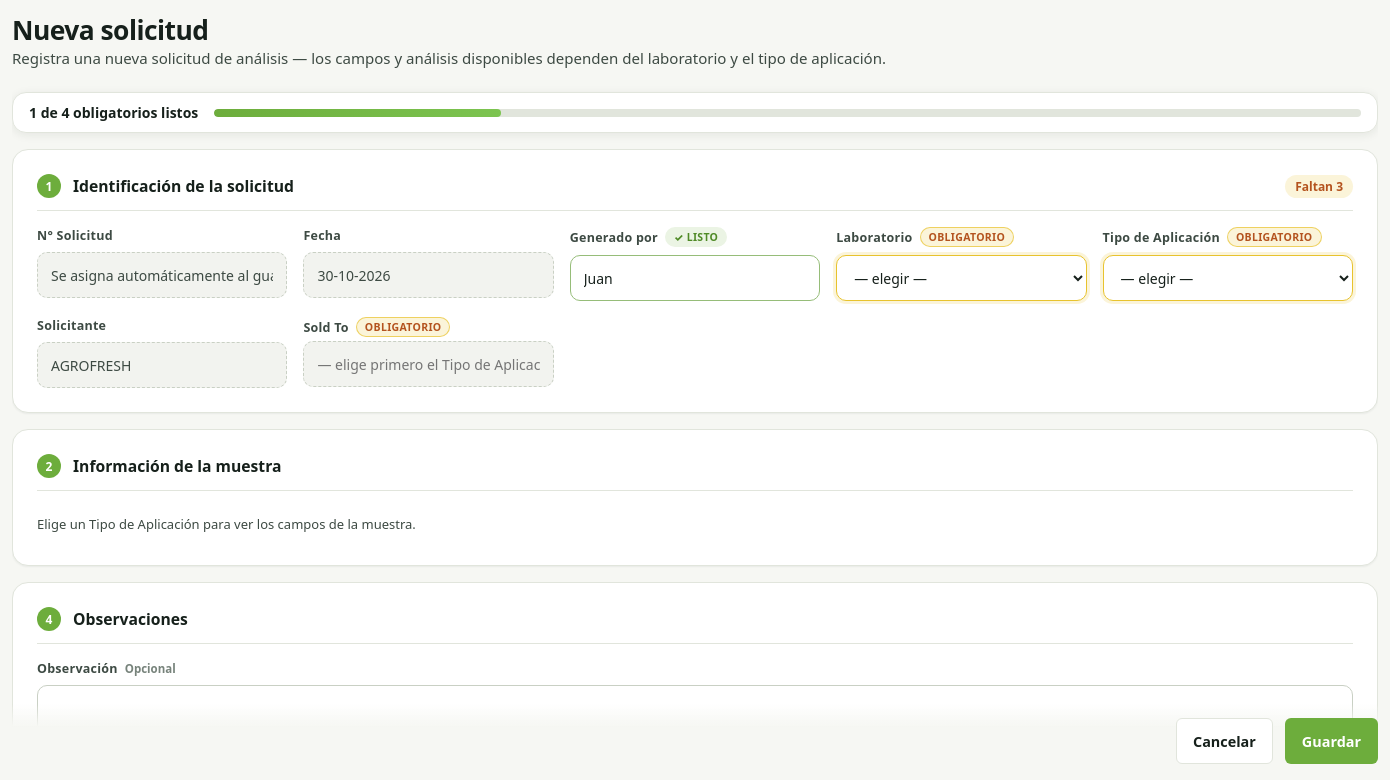
NuevaSolicitudView — RYD de AgroFresh › pide código y N° de ensayo y permite varias posiciones solo en RYD + AgroFresh
Select "AgroFresh" in the dropdown labelled "Laboratorio": (961, 278) [836,255,1087,301]
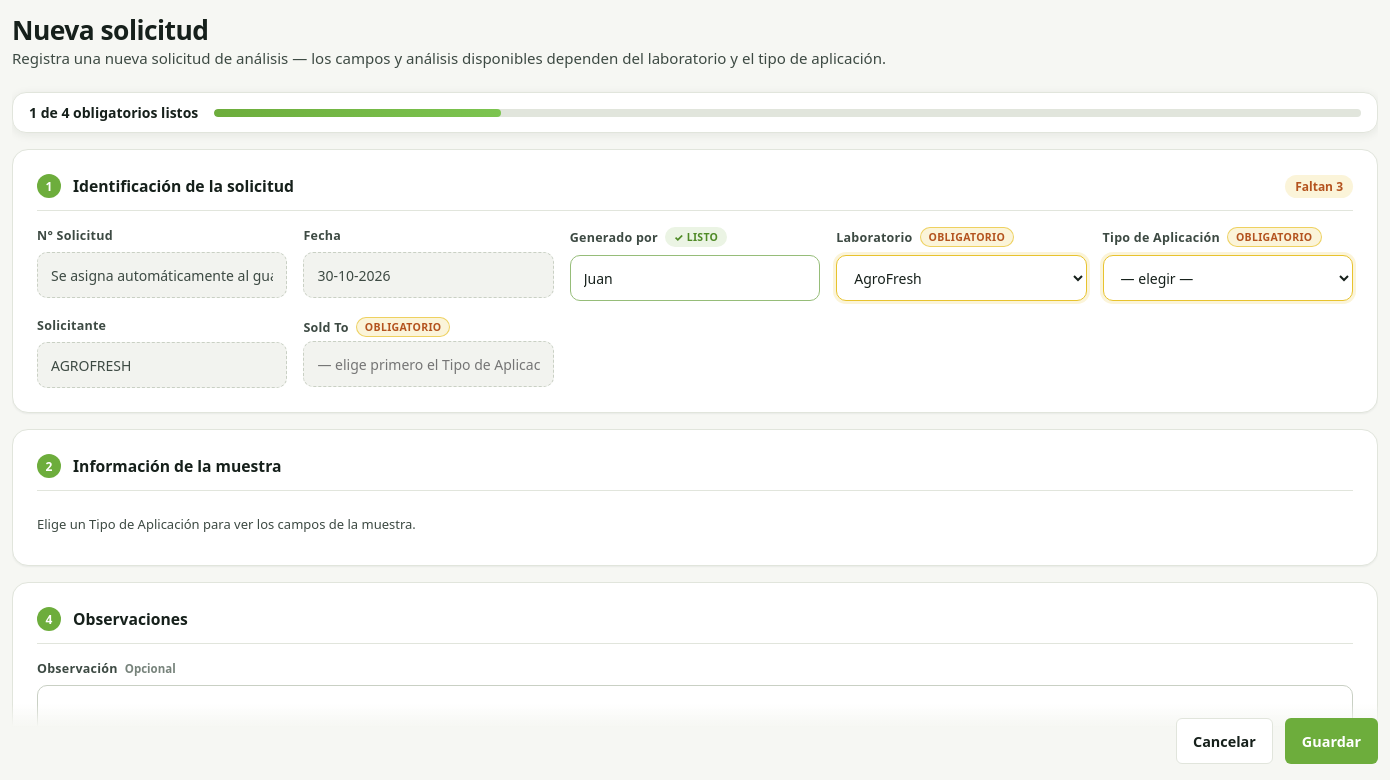
Select "RYD" in the dropdown labelled "Tipo de Aplicación": (1228, 278) [1103,255,1353,301]
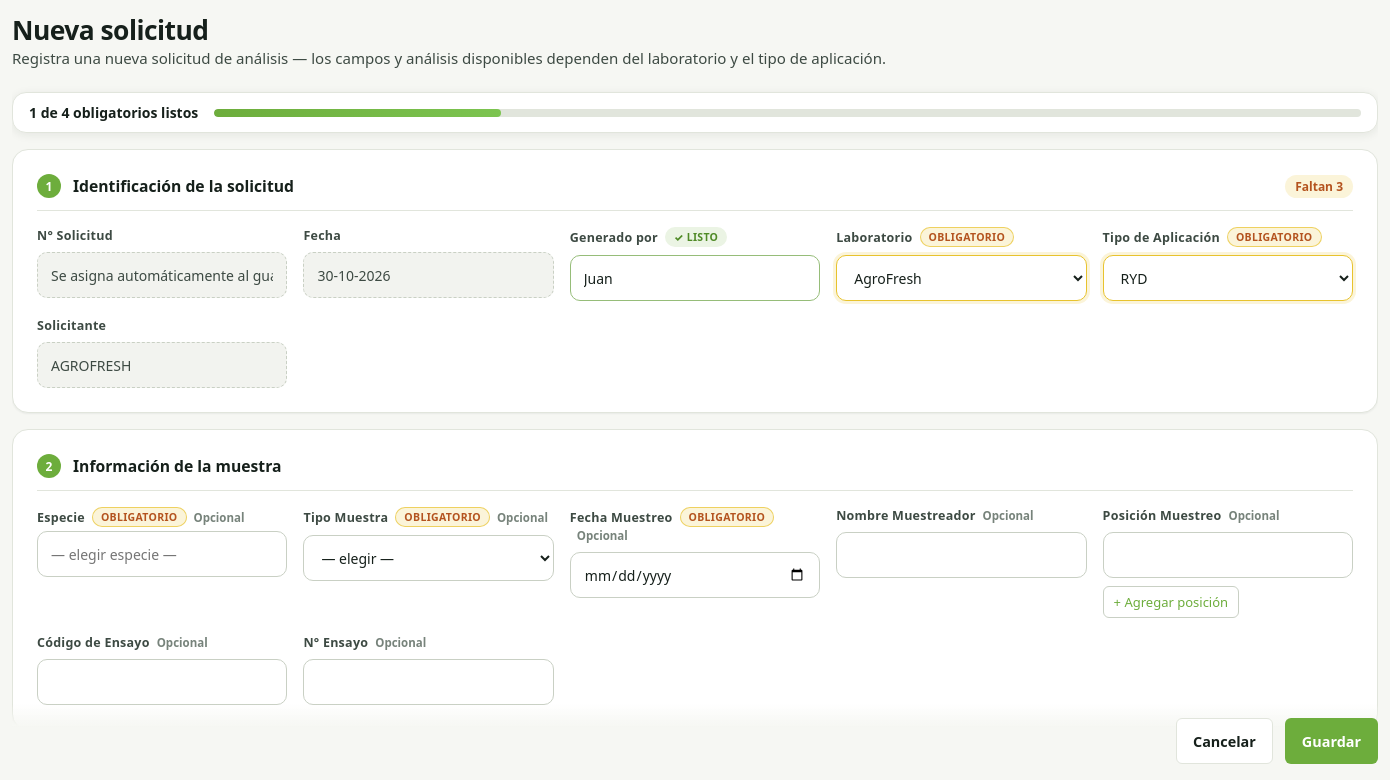
Expected: the text "Código de Ensayo" is shown, [37,634,150,651]
Expected: the text "N° Ensayo" is shown, [303,634,368,651]
Click the button "+ Agregar posición": (1171, 602) [1103,586,1239,618]
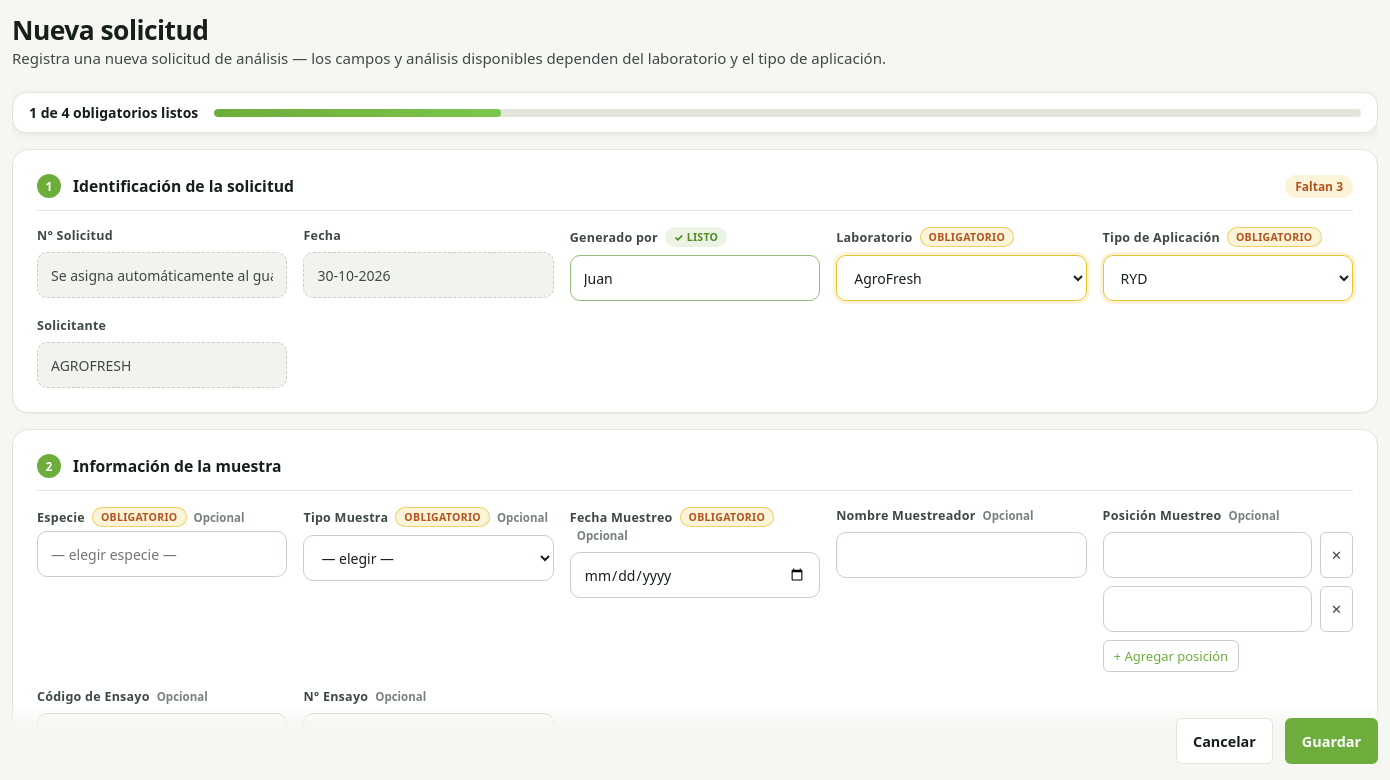
Expected: the field named "Posición de muestreo 2" is shown, [1103,586,1312,632]
// Otro laboratorio con RYD: formulario de siempre.
Select "Quiteca" in the dropdown labelled "Laboratorio": (961, 278) [836,255,1087,301]
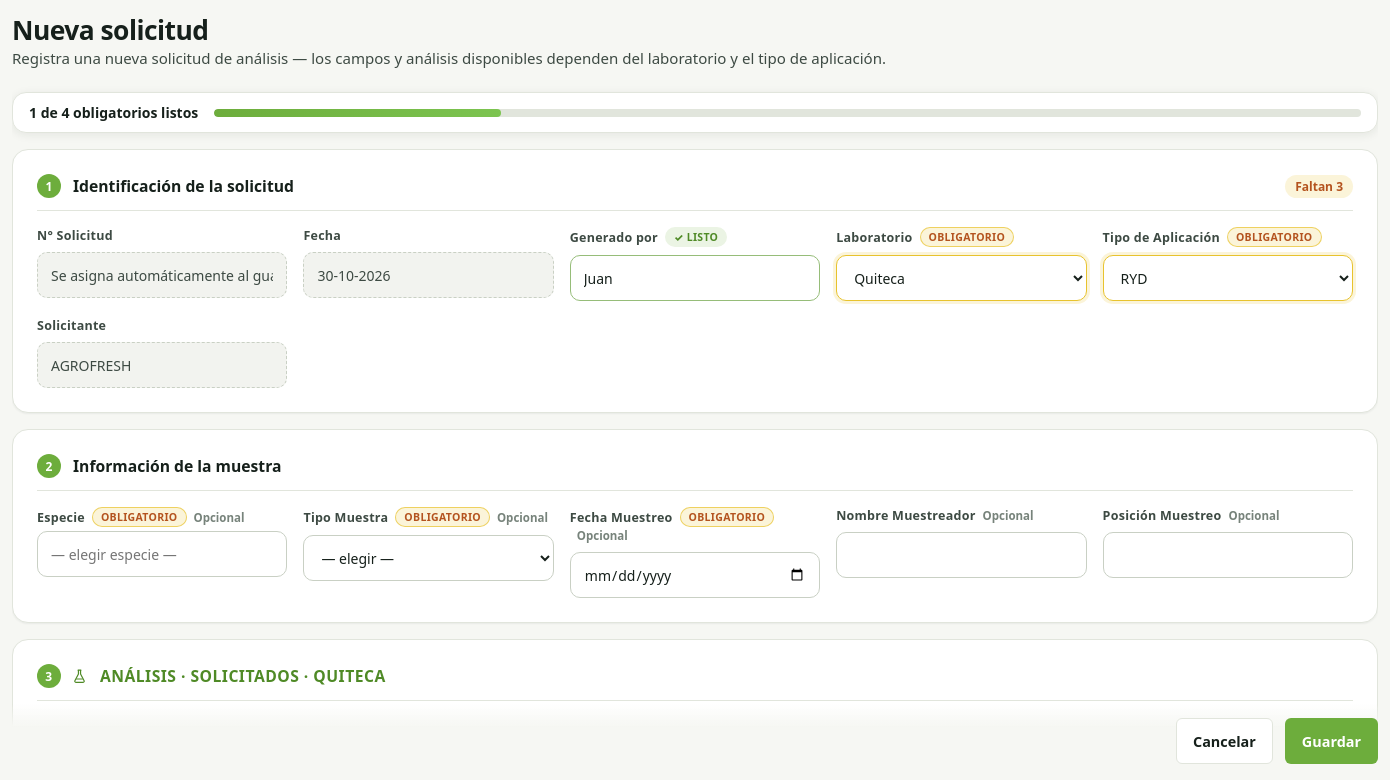
Expected: the text "Código de Ensayo" is gone
Expected: the button "+ Agregar posición" is gone
// AgroFresh pero otro tipo de aplicación: tampoco.
Select "AgroFresh" in the dropdown labelled "Laboratorio": (961, 278) [836,255,1087,301]
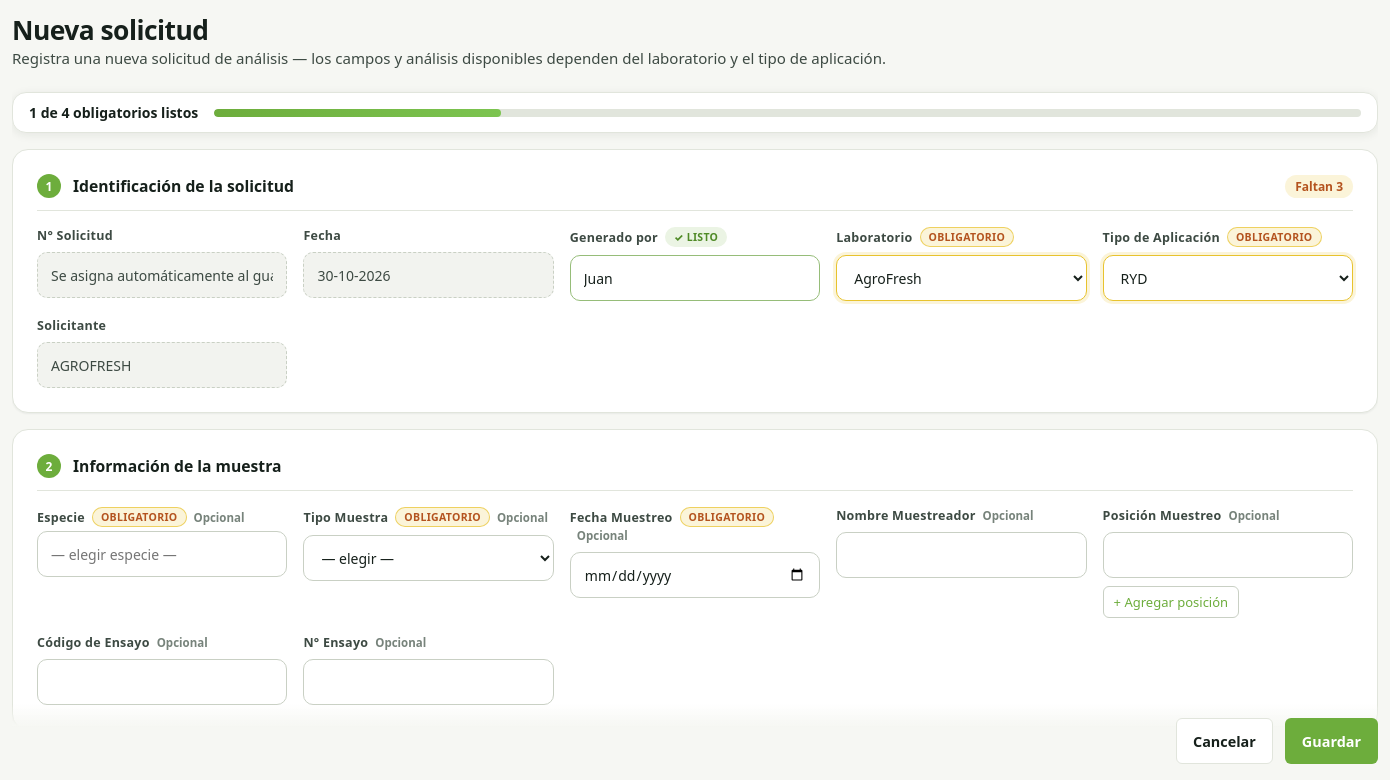
Select "Actimist" in the dropdown labelled "Tipo de Aplicación": (1228, 278) [1103,255,1353,301]
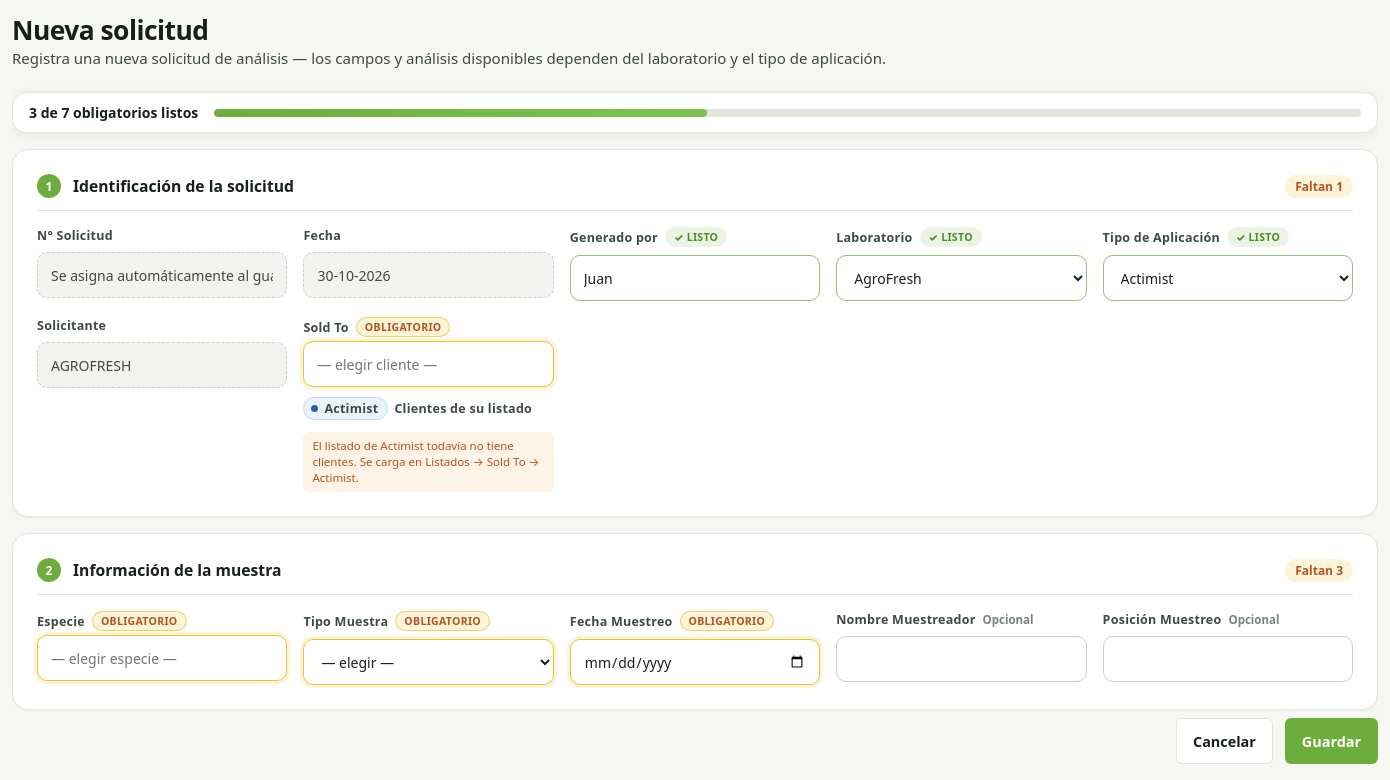
Expected: the text "N° Ensayo" is gone
